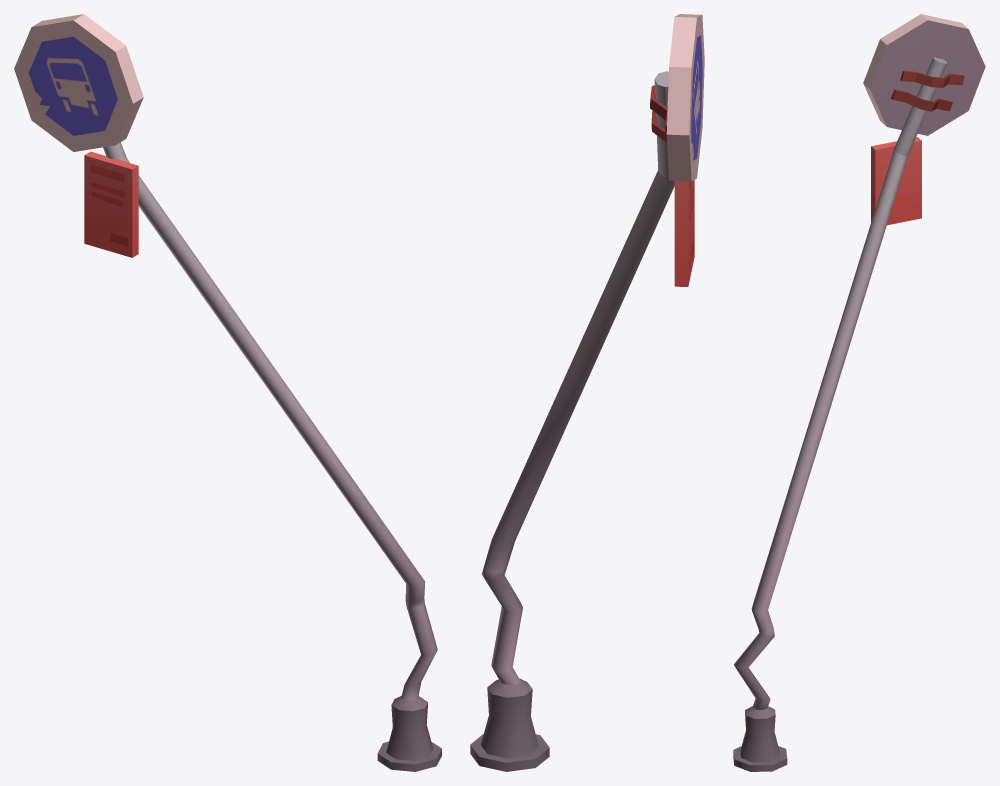
File: SM_BusStopSign.fbx
The picture shows the model from 3 angles, left to right: view 1: azimuth 30°, elevation 25°; view 2: azimuth 150°, elevation 25°; view 3: azimuth 270°, elevation 25°; orthographic projection. The views are drawn at different scales.
Visible parts, largest first — view 1: SM_BusStopSign; view 2: SM_BusStopSign; view 3: SM_BusStopSign.
Boxes of the visible parts, bbox=[...] form: SM_BusStopSign: bbox=[14, 14, 441, 771]; SM_BusStopSign: bbox=[470, 14, 704, 771]; SM_BusStopSign: bbox=[733, 14, 985, 771].
Size of the model in its own units: 2.54 by 5.96 by 2.13.
1 material, 1 textured.
